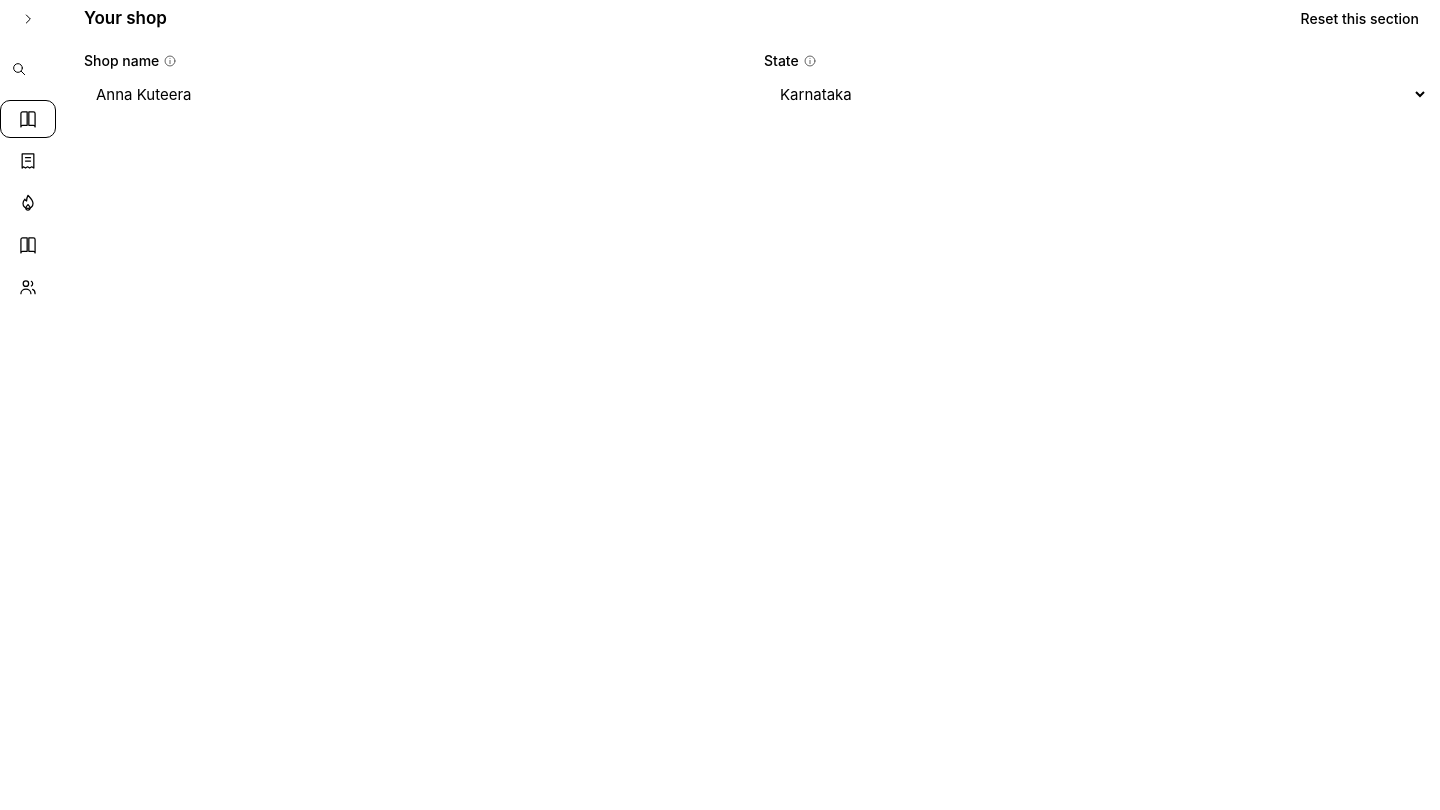
Test: the settings screen › discards and moves when asked to, and does not save
Replace the text in the field labelled "Shop name" with "Changed" at (416, 94), box x1=84 y1=75 x2=748 y2=113
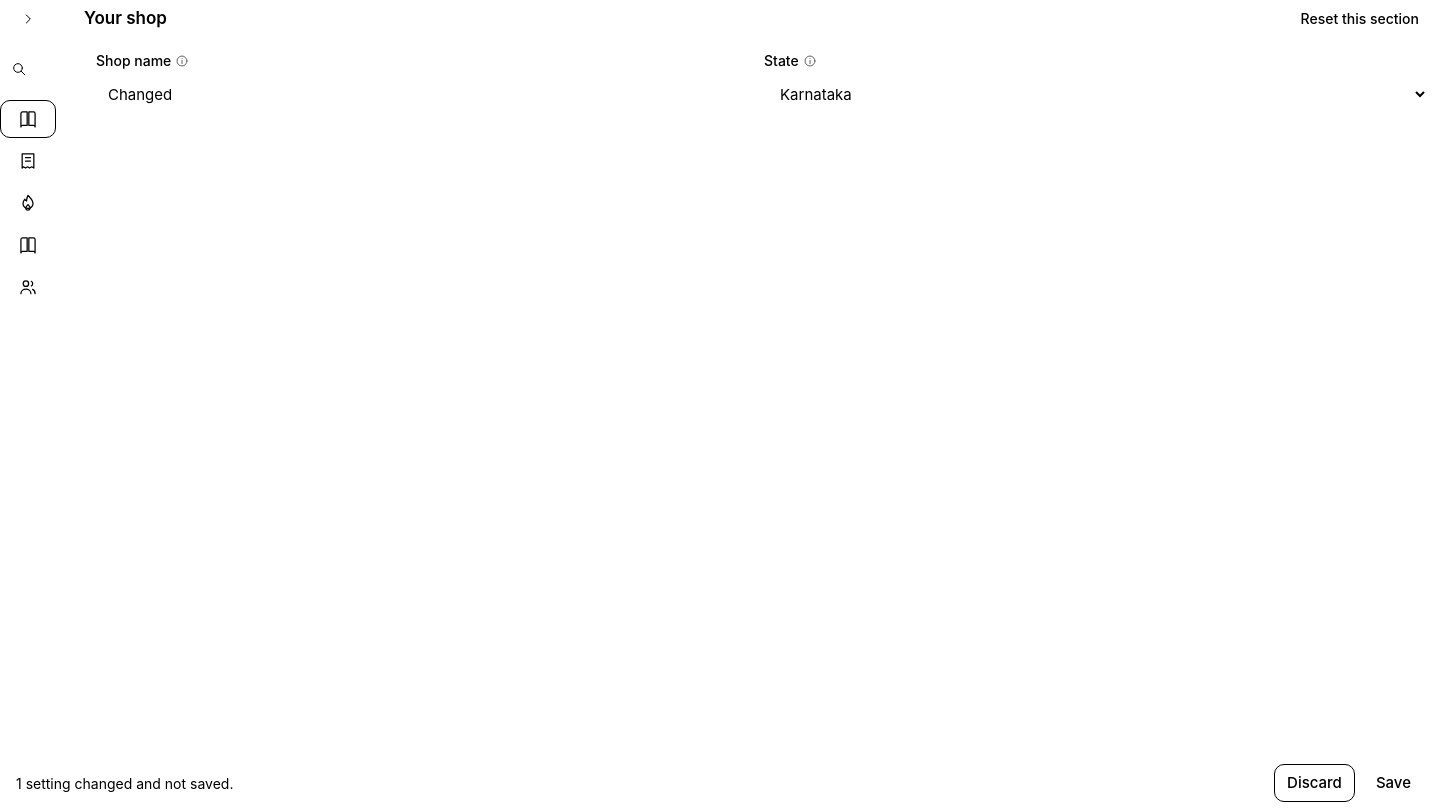
Click the button named "The bill" at (28, 161), box x1=0 y1=142 x2=56 y2=180
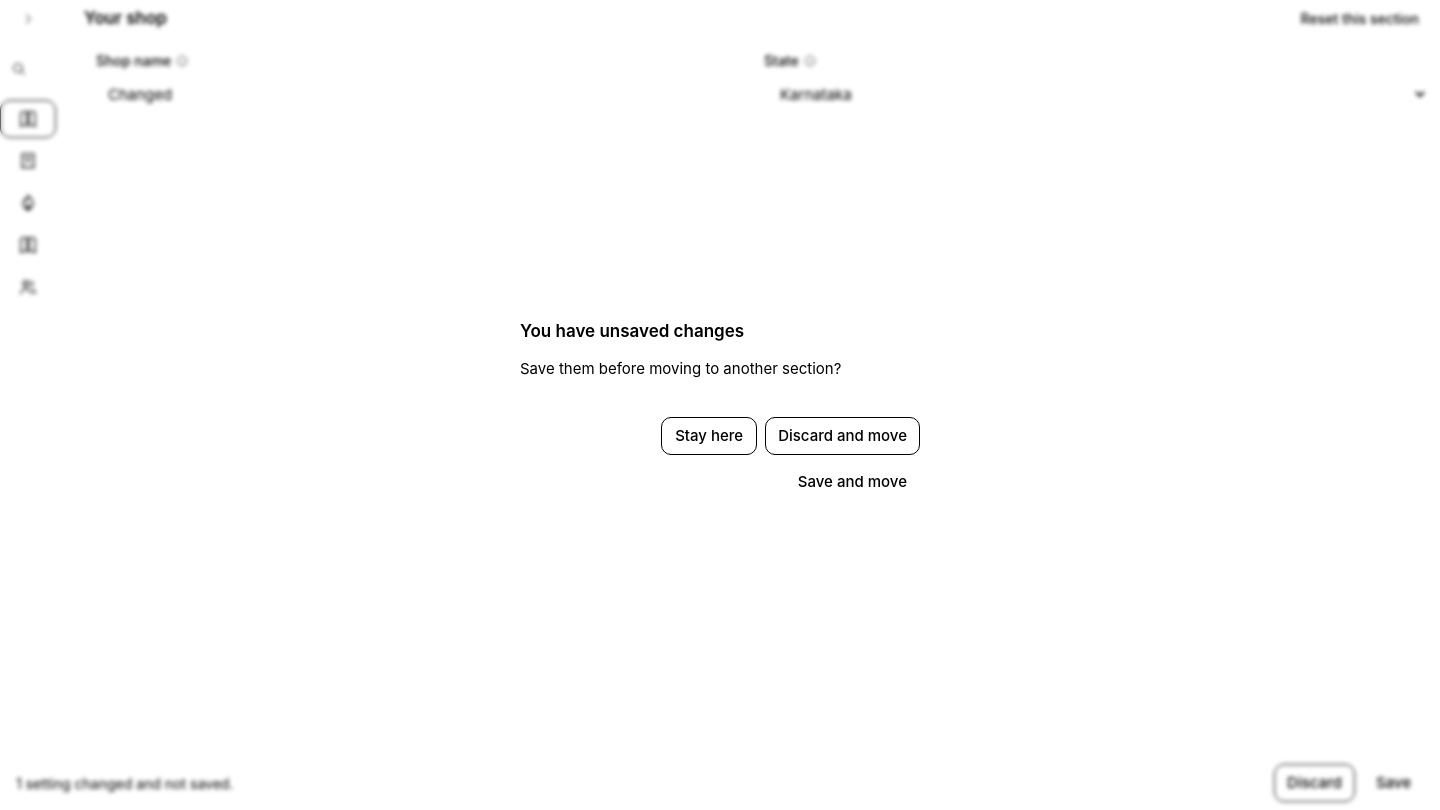
Click the button "Discard and move" at (843, 436), box x1=765 y1=417 x2=920 y2=455
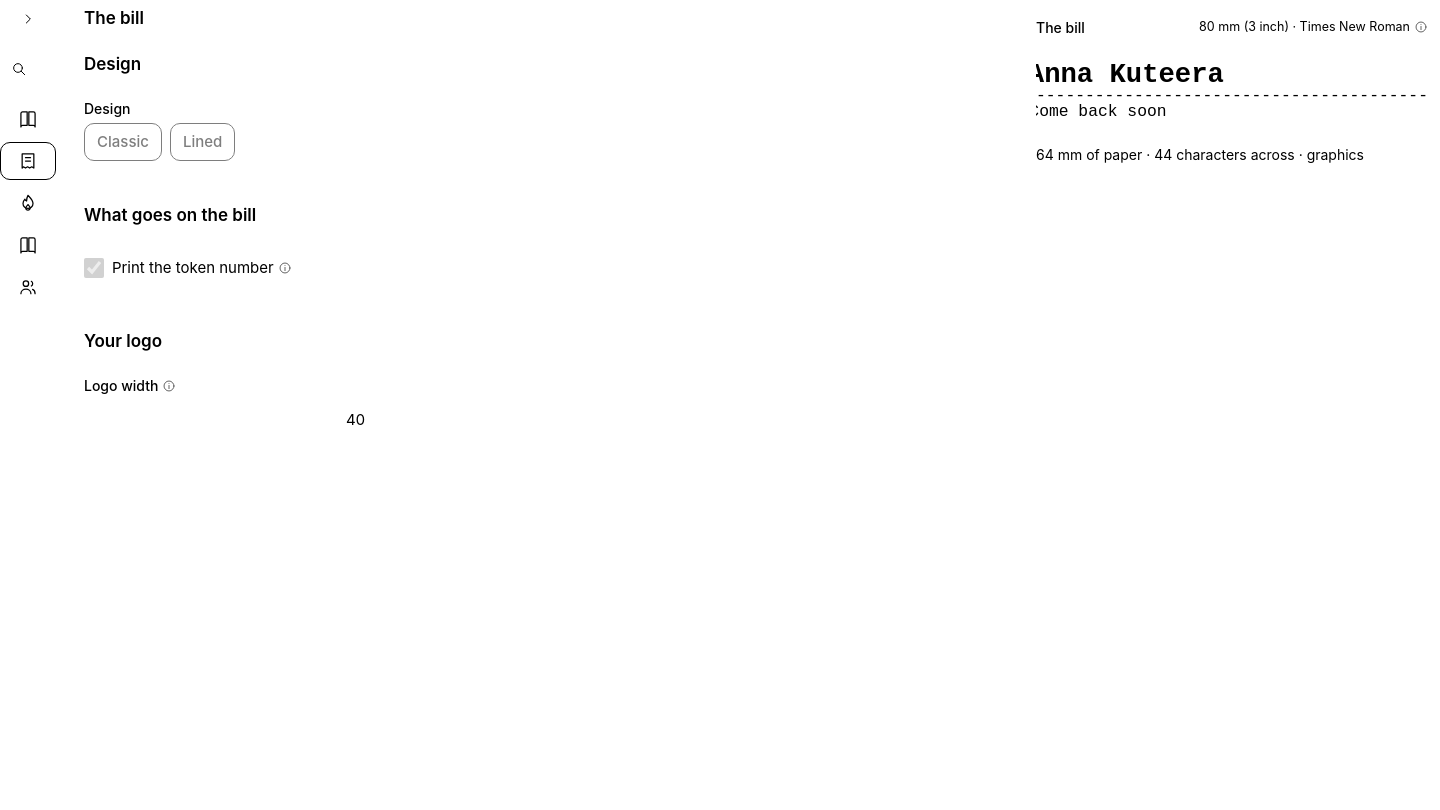
Now the checkbox labelled "Print the token number" is shown, box x1=84 y1=258 x2=104 y2=278
